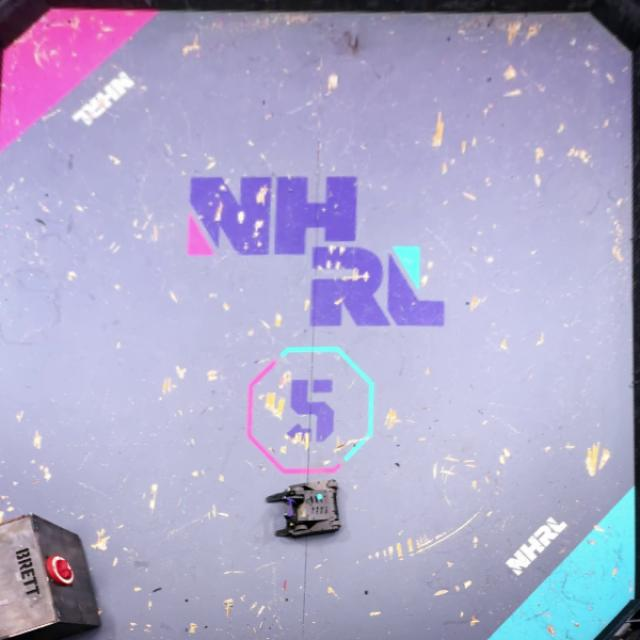housebot: (0, 514, 101, 640)
robot: (266, 479, 342, 540)
